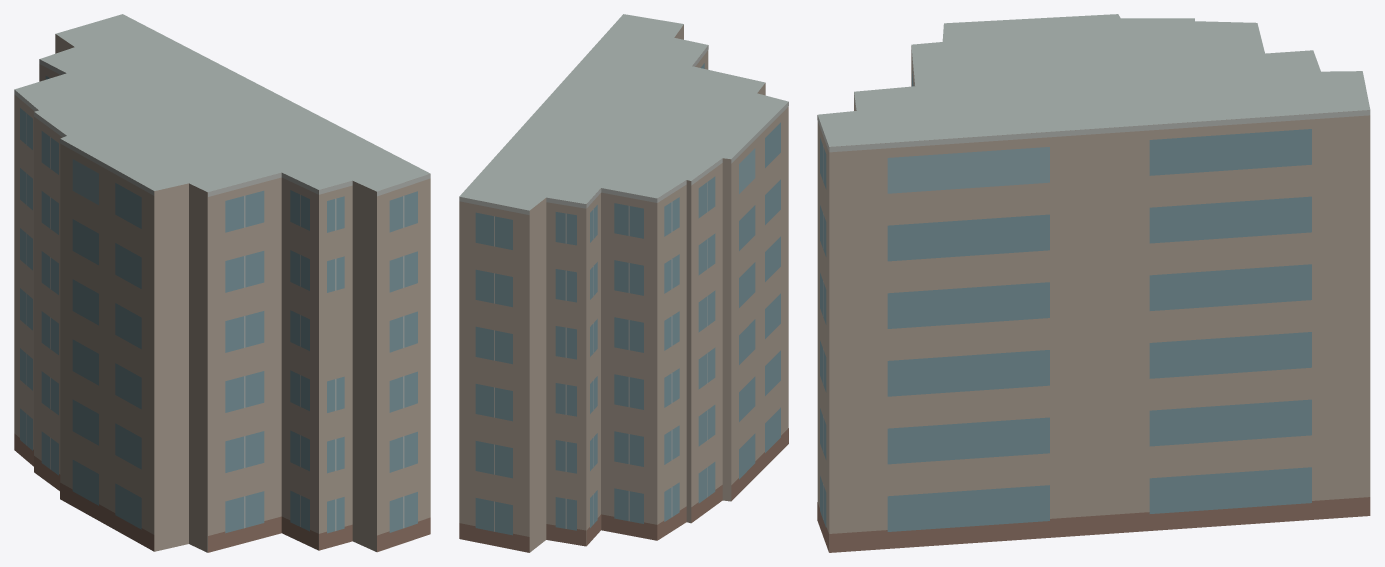
File: survey-upis-32576818.glb
The picture shows the model from 3 angles, left to right: view 1: azimuth 30°, elevation 25°; view 2: azimuth 150°, elevation 25°; view 3: azimuth 270°, elevation 25°; orthographic projection. The views are drawn at different scales.
Parts seen in each view (by area): view 1: survey-upis-32576818.tmp; view 2: survey-upis-32576818.tmp; view 3: survey-upis-32576818.tmp.
Part boxes in pixels (x1=…): survey-upis-32576818.tmp: x1=14, y1=14, x2=430, y2=552; survey-upis-32576818.tmp: x1=459, y1=14, x2=788, y2=552; survey-upis-32576818.tmp: x1=817, y1=14, x2=1370, y2=552.
Bounding box in the file's own units: 12.79 × 18.2 × 22.48.
